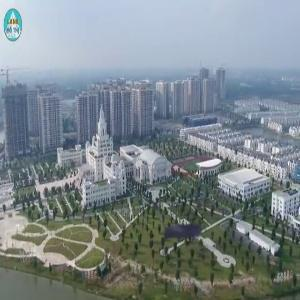drone: (134, 171, 238, 275)
